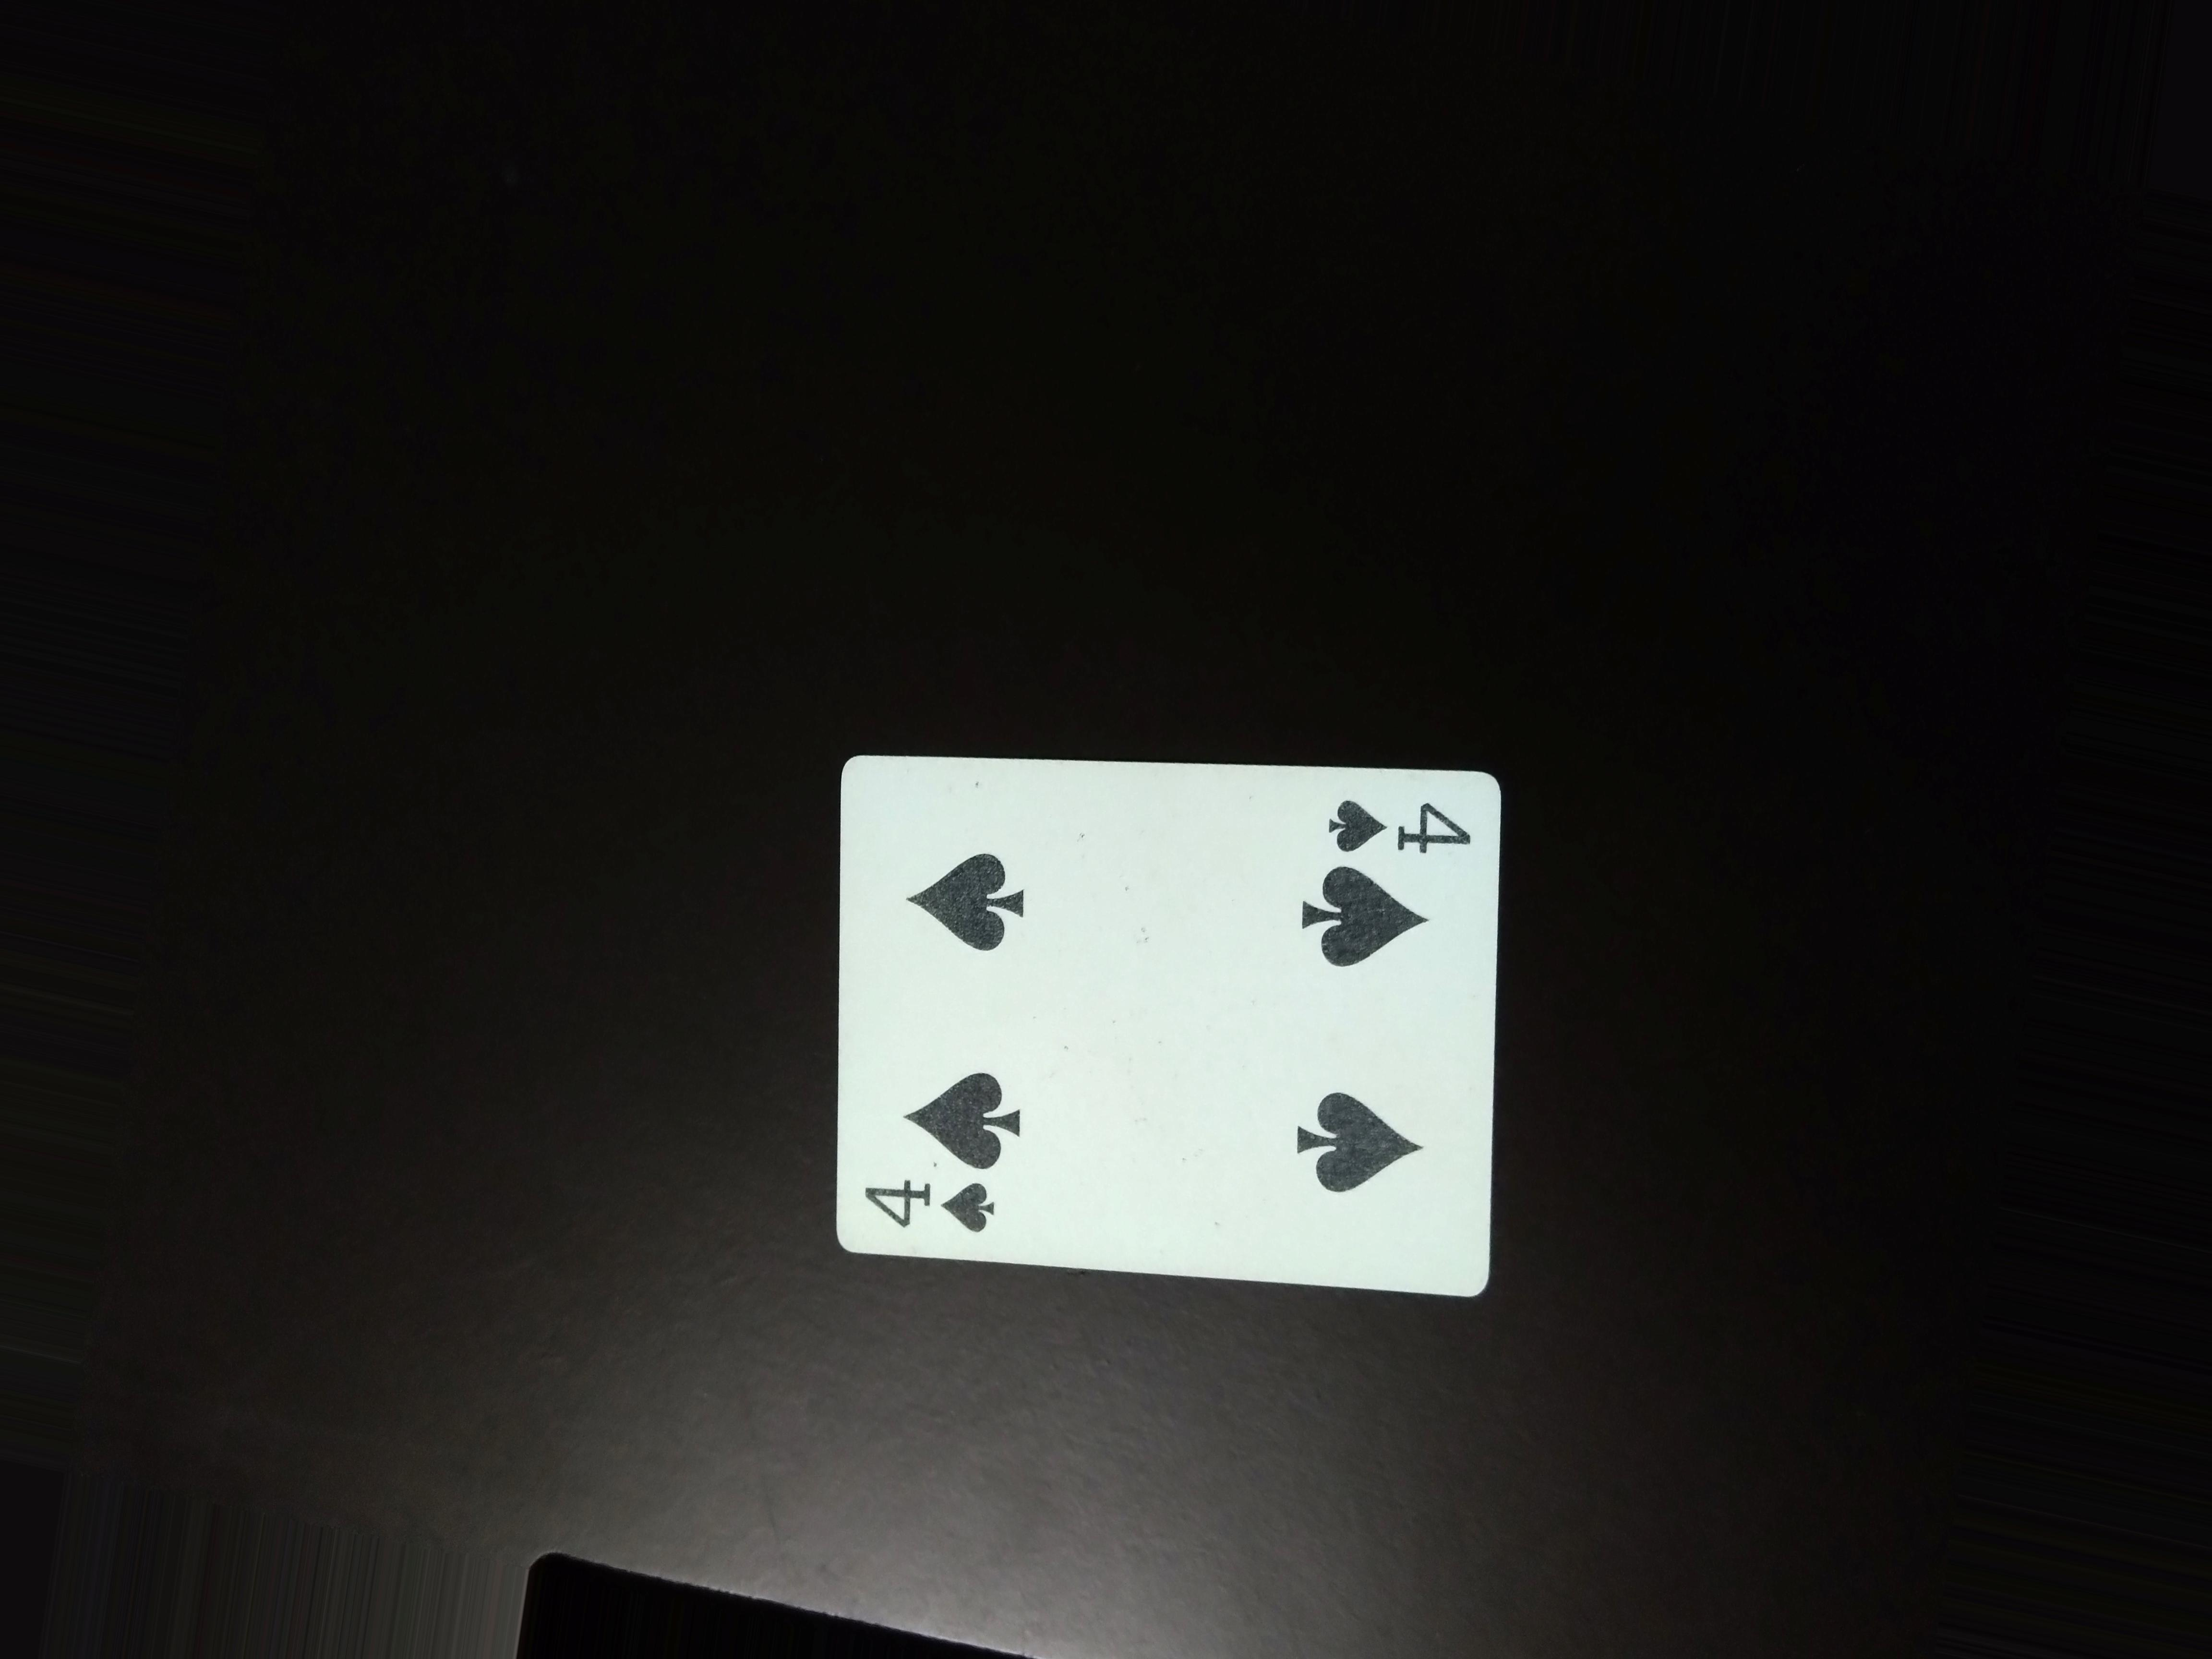4S: (1317, 789, 1487, 863)
